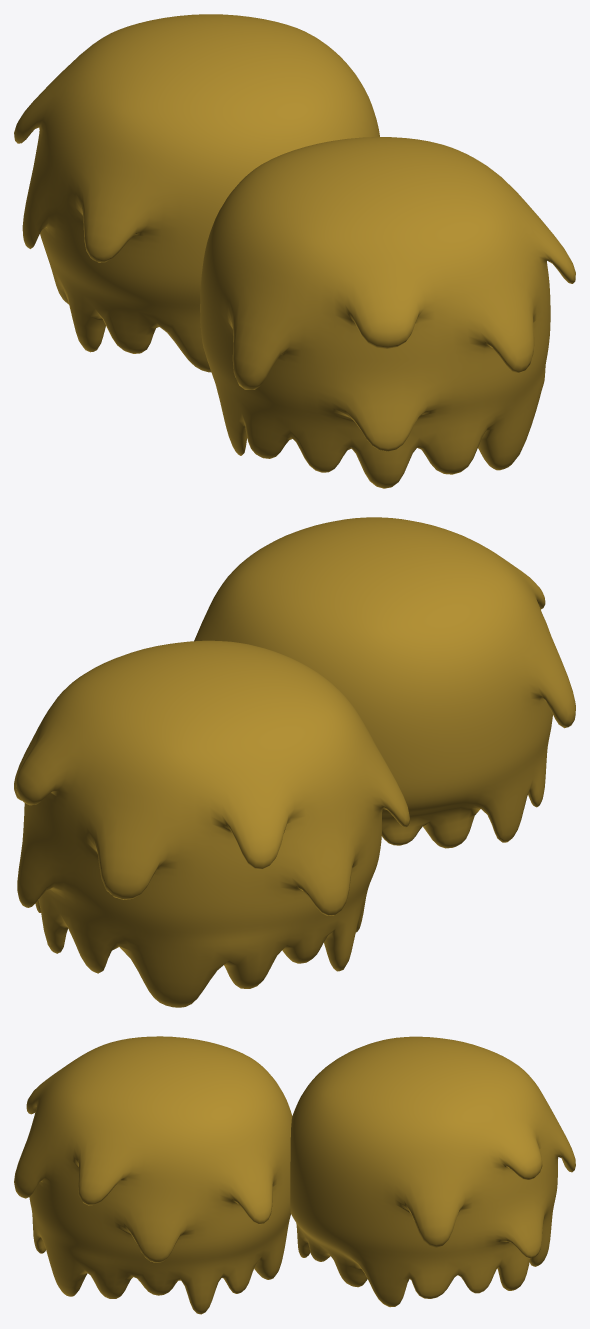
File: Bush_2.fbx
3 views of the same model, one above another, from view 1: azimuth 30°, elevation 25°; view 2: azimuth 150°, elevation 25°; view 3: azimuth 270°, elevation 25° (orthographic). The views are drawn at different scales.
Visible parts, largest first — view 1: Cube.013; view 2: Cube.013; view 3: Cube.013.
Part boxes in pixels (x1=…): Cube.013: x1=14, y1=14, x2=575, y2=488; Cube.013: x1=14, y1=517, x2=575, y2=1007; Cube.013: x1=14, y1=1036, x2=575, y2=1314.
Bounding box in the file's own units: 325 × 248 × 595.
